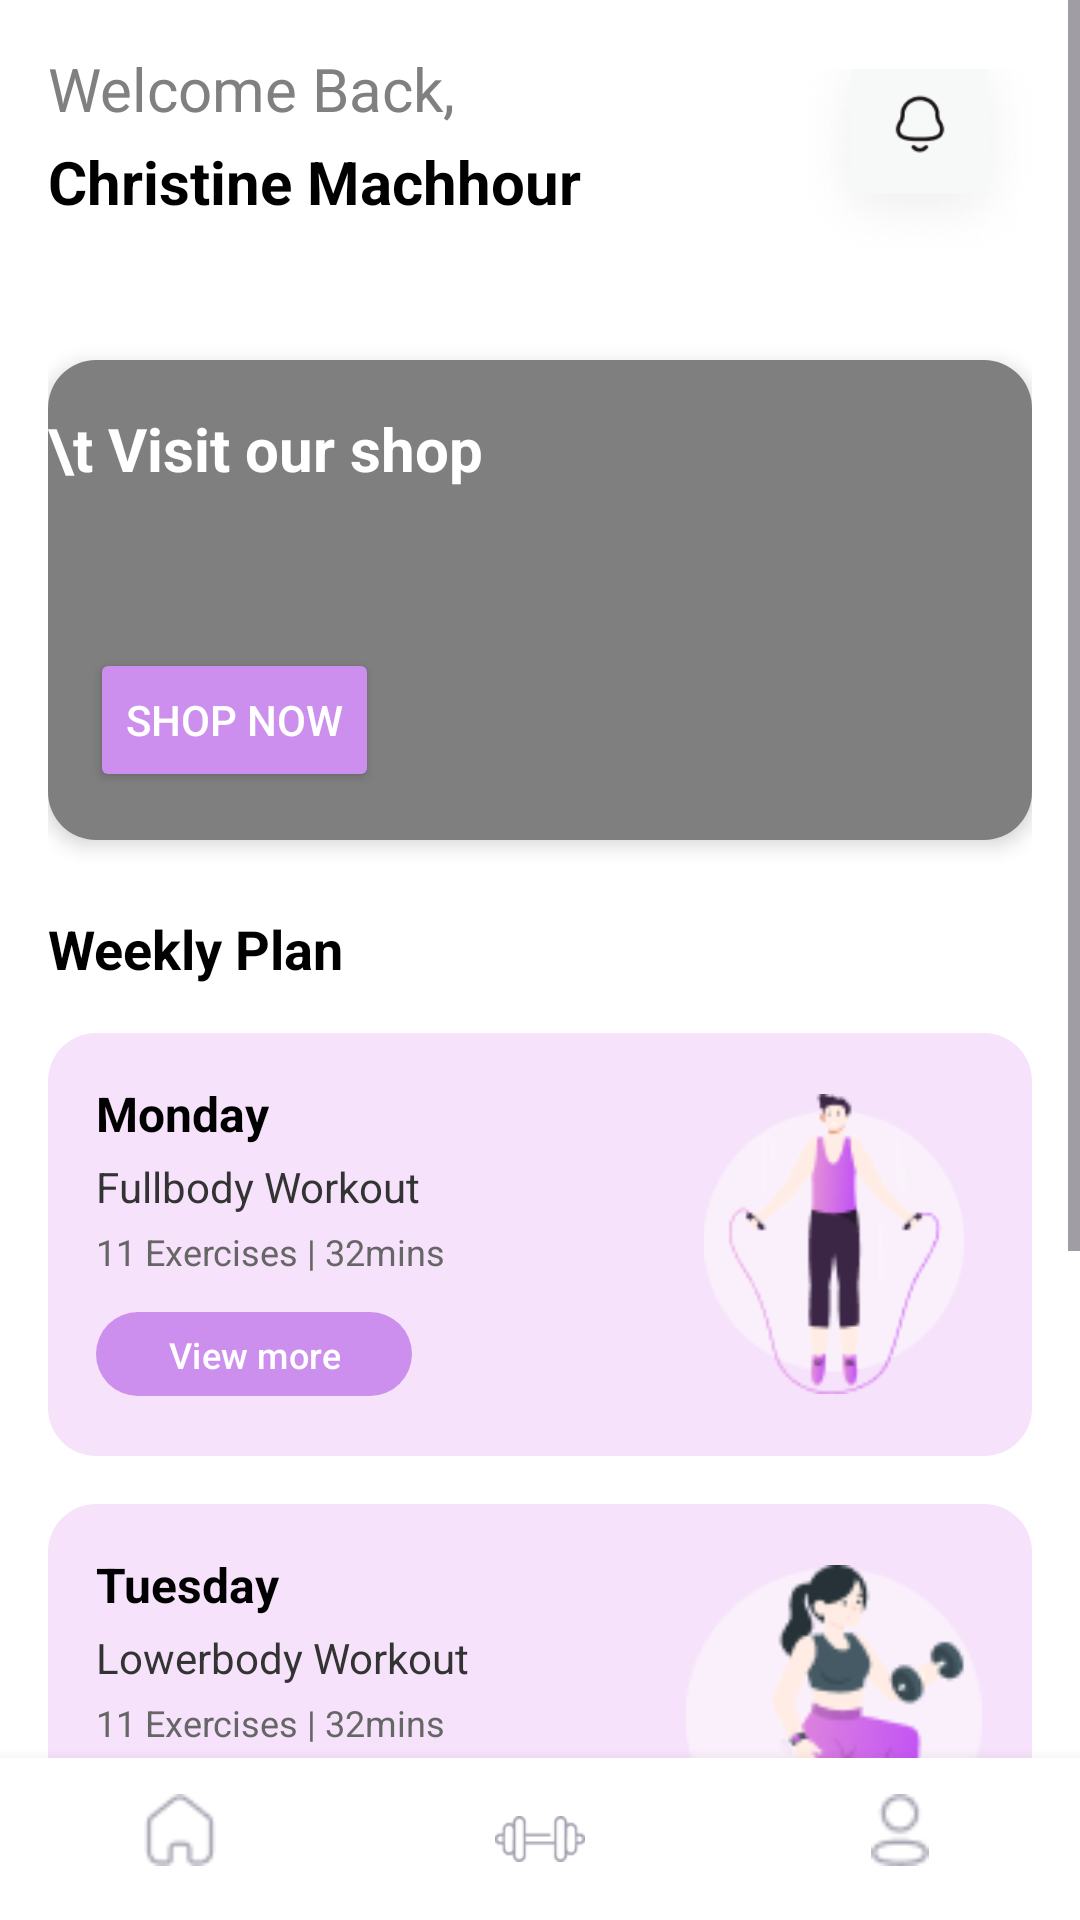

Icons on this 1080x1920 Android screen, each with its box as (x1, y1, x2, y2):
dumbbell: (495, 1816, 585, 1862)
home: (146, 1794, 214, 1866)
notification: (895, 95, 945, 153)
profile: (871, 1794, 929, 1866)
workout fullbody: (730, 1094, 939, 1394)
